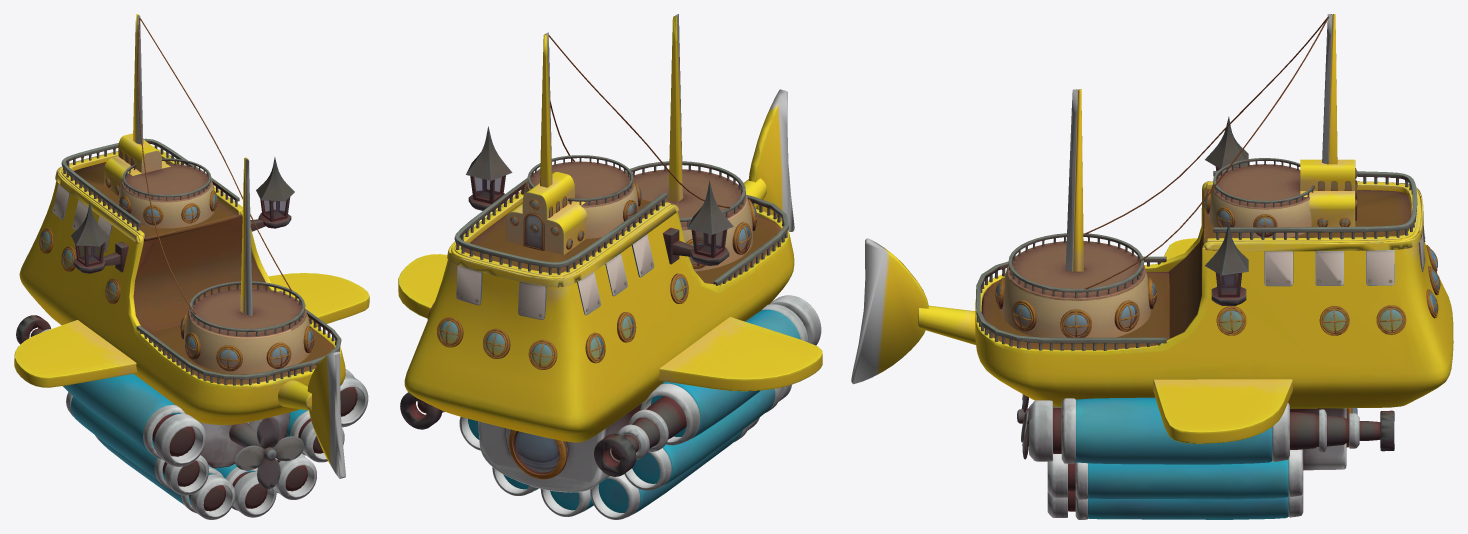
The model's file is polar-tang.glb.
3 renders of one model, left to right at view 1: azimuth 30°, elevation 25°; view 2: azimuth 150°, elevation 25°; view 3: azimuth 270°, elevation 25°, orthographic. The views are drawn at different scales.
Visible parts, largest first — view 1: sip1_lambert37_0.007, sotgan_lambert44_0.007, t2_lambert42_0.007, t3_lambert39_0.007, t4_lambert43_0.007, leak1_lambert45_0.007, window_lambert47_0.014, glls_lambert40_0.007, leak2_lambert46_0.007, t1_lambert41_0.007; view 2: sip1_lambert37_0.007, sotgan_lambert44_0.007, t3_lambert39_0.007, t2_lambert42_0.007, window_lambert47_0.014, t4_lambert43_0.007, glls_lambert40_0.007, leak1_lambert45_0.007, t1_lambert41_0.007, leak2_lambert46_0.007; view 3: sip1_lambert37_0.007, sotgan_lambert44_0.007, t2_lambert42_0.007, t3_lambert39_0.007, leak1_lambert45_0.007, window_lambert47_0.014, t4_lambert43_0.007, glls_lambert40_0.007, t1_lambert41_0.007, leak2_lambert46_0.007.
Part boxes in pixels (x1,y1,x2,y2): sip1_lambert37_0.007: (19, 149, 345, 478); sotgan_lambert44_0.007: (16, 315, 368, 519); t2_lambert42_0.007: (104, 14, 310, 374); t3_lambert39_0.007: (14, 273, 369, 489); t4_lambert43_0.007: (71, 18, 294, 314); leak1_lambert45_0.007: (61, 138, 341, 385); window_lambert47_0.014: (39, 149, 314, 371); glls_lambert40_0.007: (40, 150, 314, 367); leak2_lambert46_0.007: (122, 158, 305, 336); t1_lambert41_0.007: (52, 184, 112, 252); sip1_lambert37_0.007: (404, 89, 794, 442); sotgan_lambert44_0.007: (400, 295, 821, 519); t3_lambert39_0.007: (398, 254, 822, 492); t2_lambert42_0.007: (506, 14, 752, 271); window_lambert47_0.014: (427, 180, 757, 479); t4_lambert43_0.007: (466, 34, 733, 265); glls_lambert40_0.007: (439, 177, 756, 472); leak1_lambert45_0.007: (454, 168, 788, 285); t1_lambert41_0.007: (456, 234, 654, 319); leak2_lambert46_0.007: (527, 155, 745, 226); sip1_lambert37_0.007: (851, 181, 1453, 408); sotgan_lambert44_0.007: (1029, 397, 1394, 519); t2_lambert42_0.007: (1001, 14, 1355, 337); t3_lambert39_0.007: (1017, 238, 1346, 470); leak1_lambert45_0.007: (976, 171, 1417, 350); window_lambert47_0.014: (995, 168, 1440, 447); t4_lambert43_0.007: (1084, 16, 1328, 305); glls_lambert40_0.007: (996, 168, 1439, 414); t1_lambert41_0.007: (1264, 224, 1425, 286); leak2_lambert46_0.007: (1008, 158, 1314, 297).
Size of the model in its own units: 39.68 by 46.55 by 51.98.
Materials: 10 (10 with a texture image).
